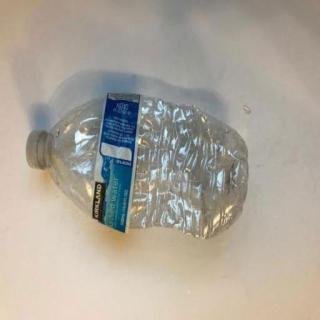Plastic-bottle: (26, 92, 250, 241)
